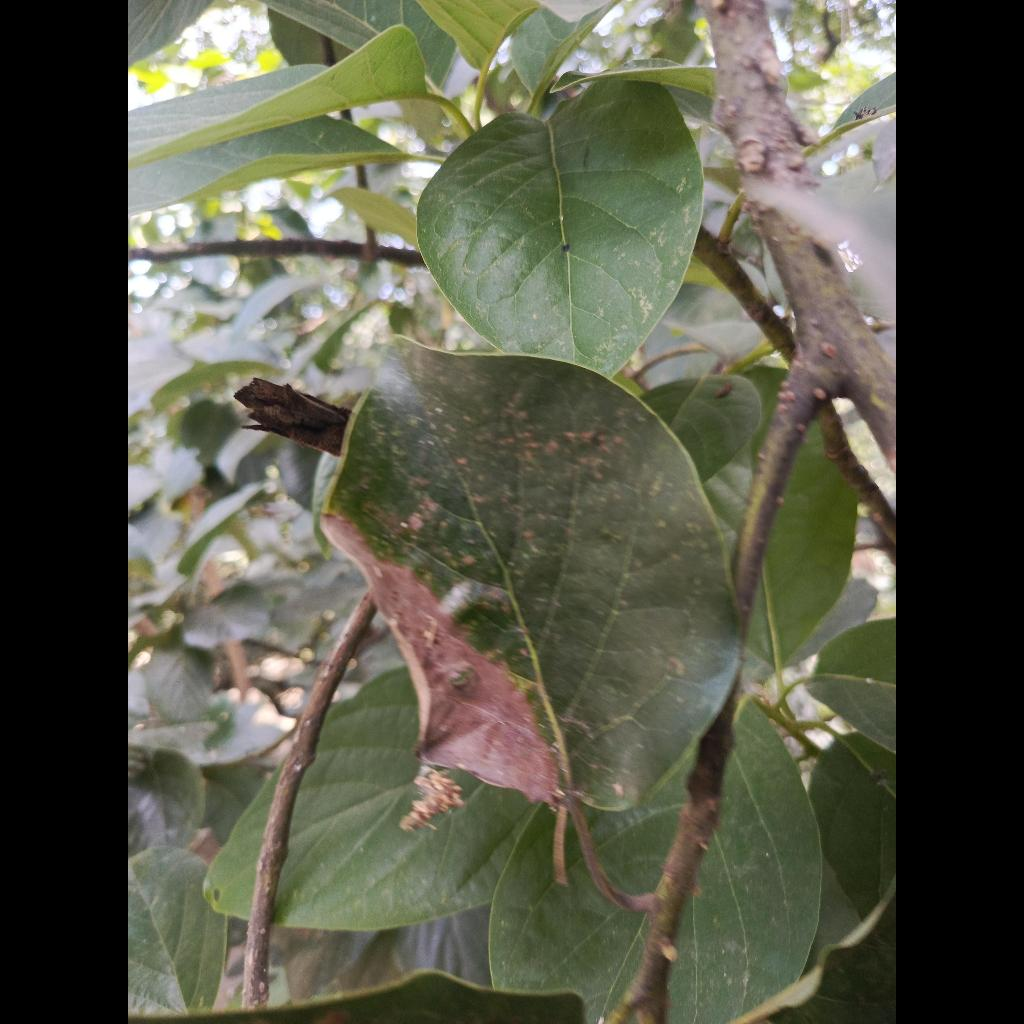antracnosis_hoja: (322, 339, 739, 810)
